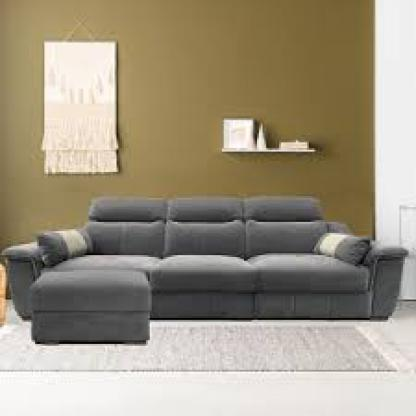sofa: (13, 196, 396, 340)
